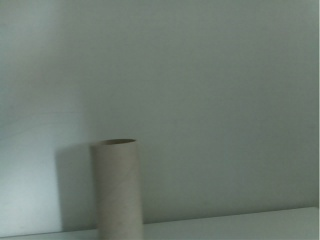rollo papel: (87, 137, 146, 240)
